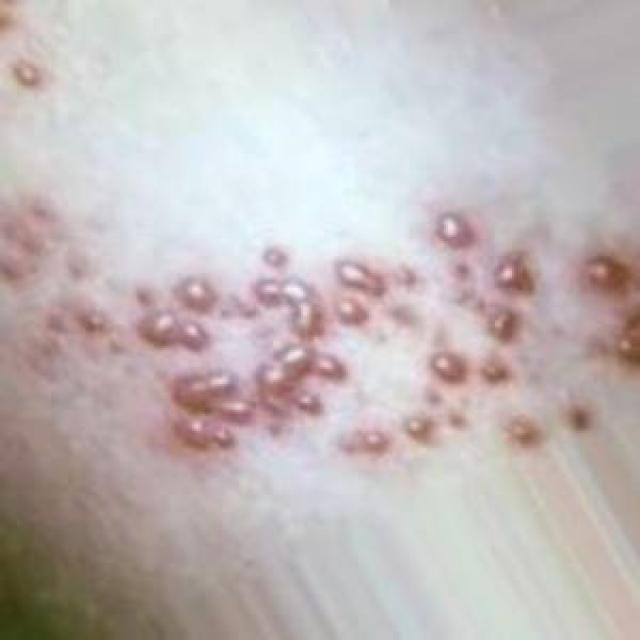Shingles: (139, 213, 640, 466), (0, 191, 121, 369)
